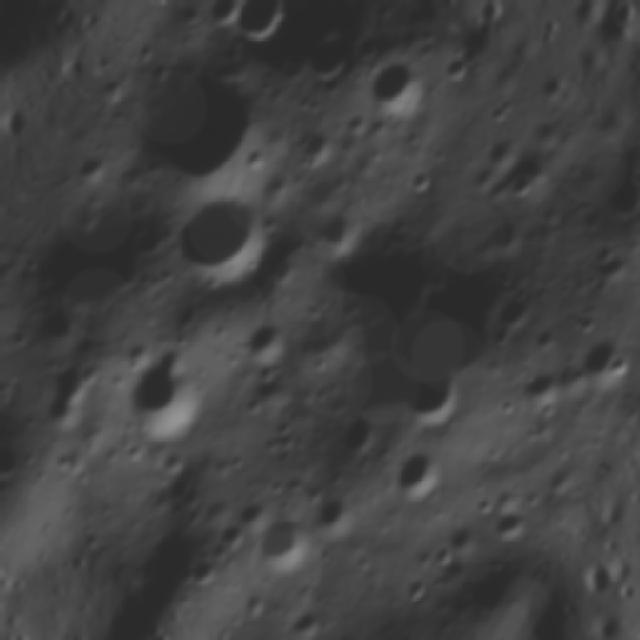crater: (277, 218, 528, 459), (100, 32, 292, 215), (15, 177, 191, 354), (146, 166, 294, 312), (105, 340, 228, 462), (236, 498, 326, 592), (368, 431, 457, 522), (389, 353, 476, 444), (358, 49, 444, 137), (40, 352, 115, 434), (290, 22, 365, 102), (564, 323, 636, 397), (474, 481, 544, 557), (244, 225, 316, 297), (476, 199, 546, 273), (295, 150, 363, 224), (506, 356, 576, 426), (304, 476, 371, 547), (218, 0, 300, 57), (308, 197, 375, 266), (483, 282, 549, 350), (584, 156, 640, 236), (240, 308, 302, 366), (330, 399, 388, 459), (290, 118, 342, 171), (437, 511, 489, 562), (273, 597, 333, 640), (177, 541, 225, 594), (206, 511, 257, 560), (414, 6, 471, 48), (195, 0, 252, 38), (400, 158, 443, 202), (434, 44, 477, 87), (423, 530, 466, 573), (348, 27, 388, 70), (120, 569, 155, 593), (0, 244, 15, 290)
